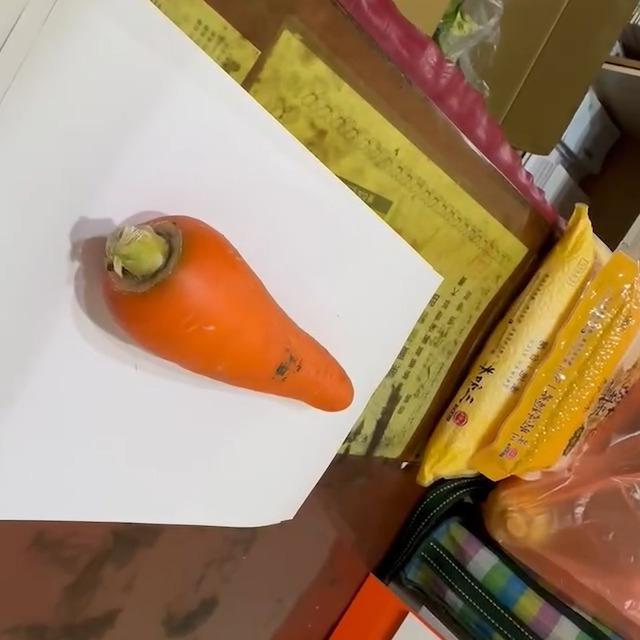carrot: (103, 214, 359, 417)
